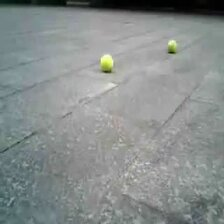tennis: (99, 54, 114, 71), (167, 40, 177, 52)
